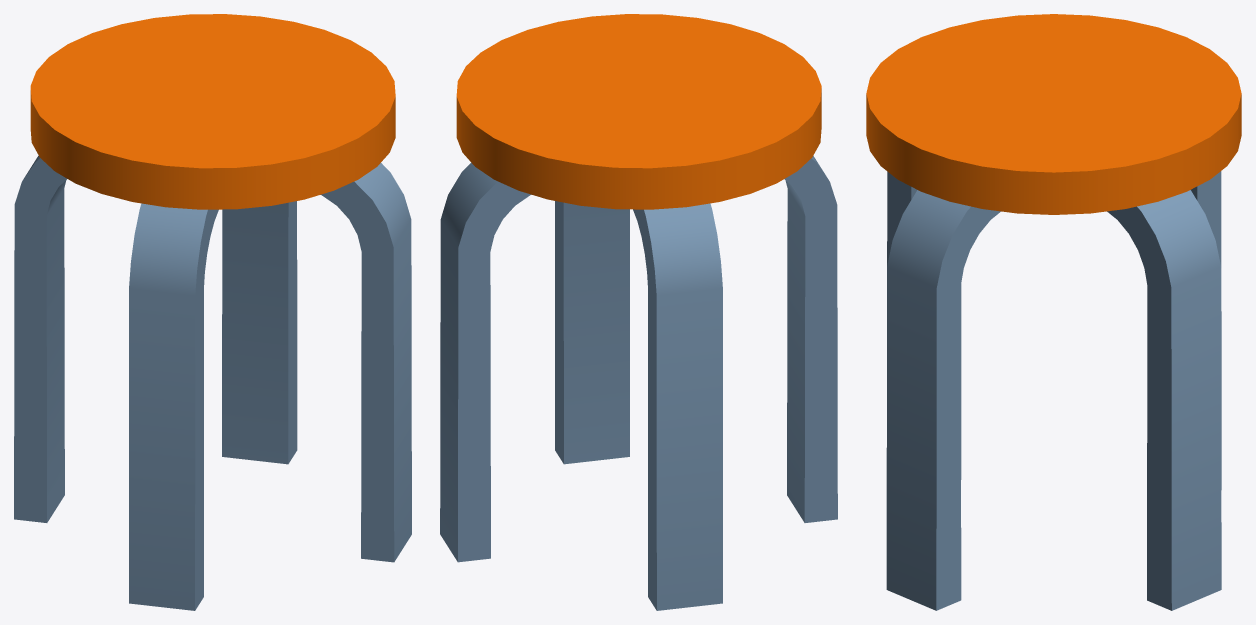
Rendered from jakkara.fbx.
3 renders of one model, left to right at view 1: azimuth 30°, elevation 25°; view 2: azimuth 150°, elevation 25°; view 3: azimuth 270°, elevation 25°, orthographic. The views are drawn at different scales.
Visible parts, largest first — view 1: istuinosa; view 2: istuinosa; view 3: istuinosa.
Part boxes in pixels (x1,y1,x2,y2): istuinosa: [14, 14, 411, 610]; istuinosa: [440, 14, 837, 610]; istuinosa: [866, 14, 1241, 610].
Bounding box in the file's own units: 38.4 × 50.46 × 38.4.
